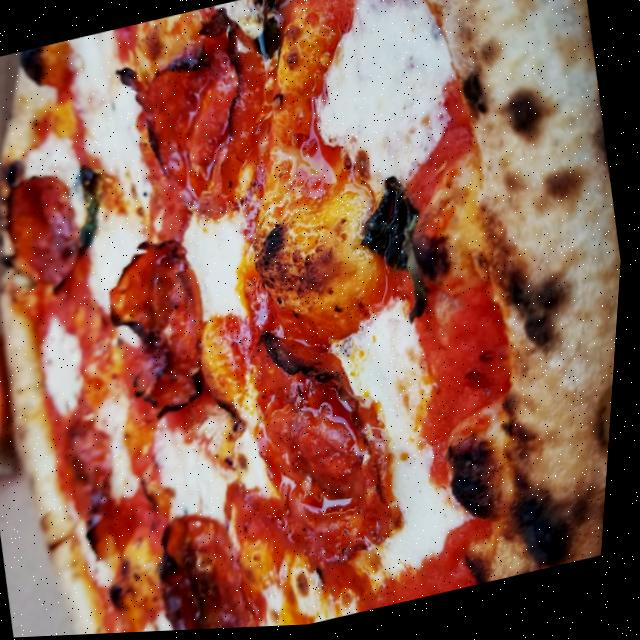basil: (347, 169, 451, 337), (64, 159, 120, 262)
pepperoni: (244, 362, 425, 590), (124, 31, 274, 224), (93, 223, 232, 427), (149, 502, 272, 634), (0, 163, 99, 307), (60, 404, 135, 529)
pizza: (0, 0, 640, 640)
